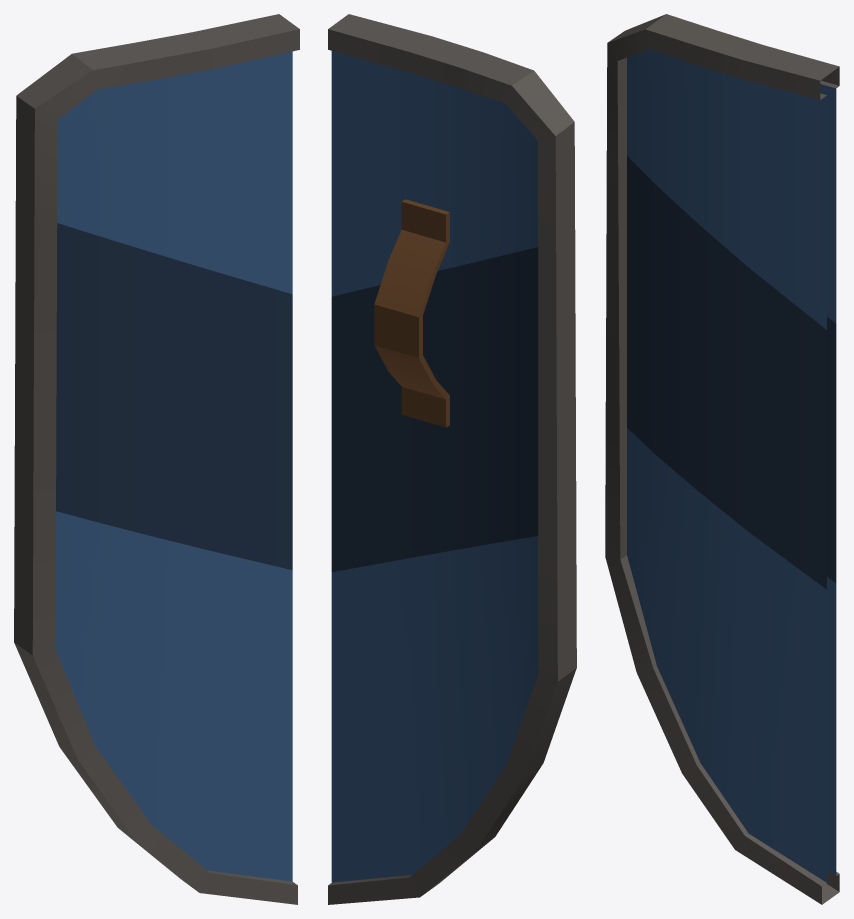
The model's file is Heater Shield_Blue.glb.
3 views of the same model, side by side, from view 1: azimuth 30°, elevation 25°; view 2: azimuth 150°, elevation 25°; view 3: azimuth 330°, elevation 25° (orthographic). The views are drawn at different scales.
Parts seen in each view (by area): view 1: Heater Shield_Blue; view 2: Heater Shield_Blue; view 3: Heater Shield_Blue.
Boxes of the visible parts, x1,y1,x2,y2 form: Heater Shield_Blue: [14, 14, 299, 904]; Heater Shield_Blue: [328, 14, 576, 904]; Heater Shield_Blue: [605, 14, 839, 904].
Bounding box in the file's own units: 0.2491 × 0.8428 × 0.0878.
Materials: 1 (1 with a texture image).
